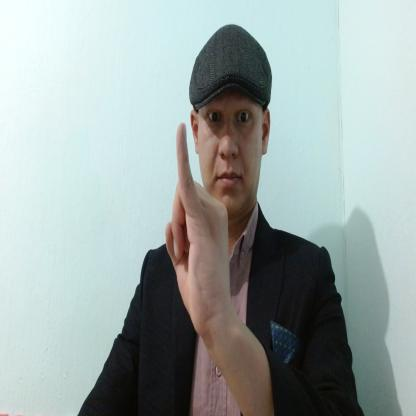I: (164, 119, 232, 330)
